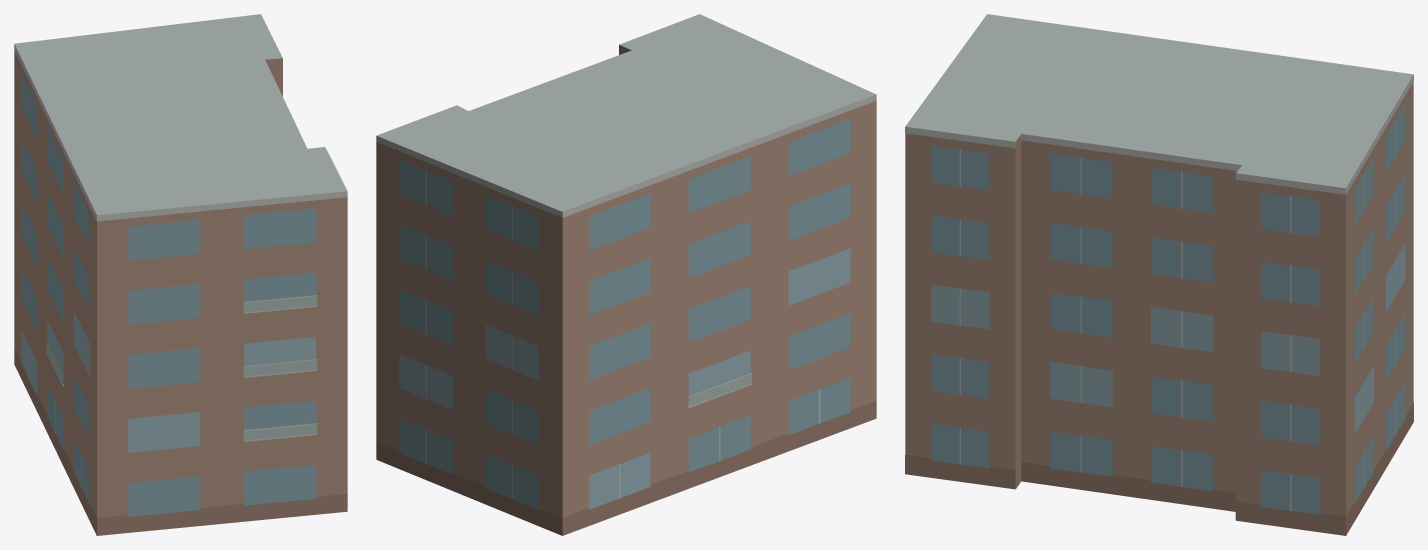
The model's file is survey-upis-32899461.glb.
The picture shows the model from 3 angles, left to right: view 1: azimuth 30°, elevation 25°; view 2: azimuth 150°, elevation 25°; view 3: azimuth 270°, elevation 25°; orthographic projection. The views are drawn at different scales.
Parts seen in each view (by area): view 1: survey-upis-32899461.tmp; view 2: survey-upis-32899461.tmp; view 3: survey-upis-32899461.tmp.
Boxes of the visible parts, left/top/right/bottom form: survey-upis-32899461.tmp: left=14, top=14, right=347, bottom=535; survey-upis-32899461.tmp: left=376, top=14, right=876, bottom=535; survey-upis-32899461.tmp: left=905, top=14, right=1413, bottom=535.
Size of the model in its own units: 14 by 13 by 17.25.
